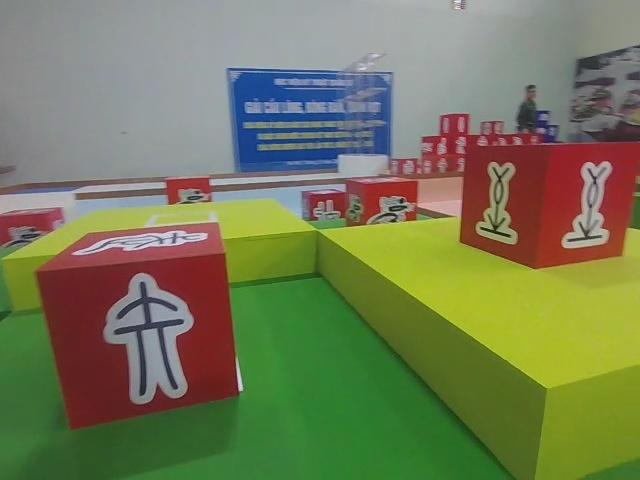R1: (343, 171, 421, 237), (0, 203, 66, 260), (161, 173, 214, 215)
R2 Fake: (31, 219, 245, 434)
R2 Real: (458, 138, 638, 271), (299, 185, 350, 228)
